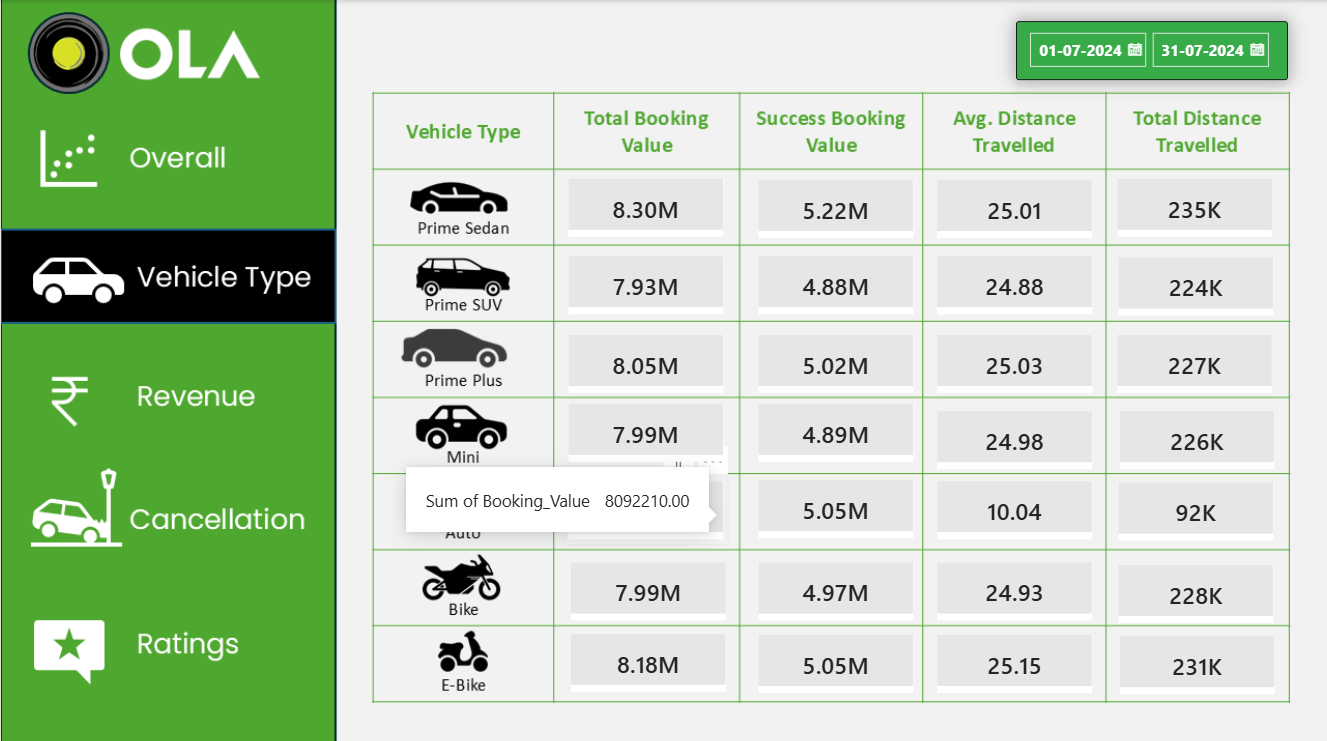

This screenshot's page, from the dashboard's own definition file:
{"tool":"powerbi","page":{"name":"Vehicle Type","canvas":[1280,720],"ordinal":1},"visuals":[{"type":"actionButton","box":[0,339,322.1,90.5],"z":0},{"type":"actionButton","box":[0,448.8,322.1,90.5],"z":1000},{"type":"actionButton","box":[0,579.1,322.1,90.5],"z":2000},{"type":"actionButton","box":[0,102.5,323.3,90.5],"z":3000},{"type":"actionButton","box":[0,446.4,323.3,90.5],"z":4000},{"type":"actionButton","box":[0,581.5,323.3,90.5],"z":5000},{"type":"cardVisual","fields":{"Data":["Sum(Bookings.Booking_Value)"]},"box":[542.9,167.5,159.7,66.2],"z":6000},{"type":"cardVisual","fields":{"Data":["Sum(Bookings.Booking_Value)"]},"box":[542.9,459.7,159.7,66.2],"z":7000},{"type":"cardVisual","fields":{"Data":["Sum(Bookings.Booking_Value)"]},"box":[545.5,537.7,159.7,66.2],"z":8000},{"type":"cardVisual","fields":{"Data":["Sum(Bookings.Booking_Value)"]},"box":[545.5,606.5,159.7,66.2],"z":9000},{"type":"cardVisual","fields":{"Data":["Sum(Bookings.Booking_Value)"]},"box":[542.9,384.4,159.7,66.2],"z":10000},{"type":"cardVisual","fields":{"Data":["Sum(Bookings.Booking_Value)"]},"box":[542.9,318.2,159.7,66.2],"z":11000},{"type":"cardVisual","fields":{"Data":["Sum(Bookings.Booking_Value)"]},"box":[542.9,242.9,159.7,66.2],"z":12000},{"type":"cardVisual","fields":{"Data":["Sum(Bookings.Booking_Value)"]},"box":[726,168.8,159.7,66.2],"z":13000},{"type":"cardVisual","fields":{"Data":["Sum(Bookings.Booking_Value)"]},"box":[726,242.9,159.7,66.2],"z":14000},{"type":"cardVisual","fields":{"Data":["Sum(Bookings.Booking_Value)"]},"box":[726,318.2,159.7,66.2],"z":15000},{"type":"cardVisual","fields":{"Data":["Sum(Bookings.Booking_Value)"]},"box":[726,384.4,159.7,66.2],"z":16000},{"type":"cardVisual","fields":{"Data":["Sum(Bookings.Booking_Value)"]},"box":[726,458.4,159.7,66.2],"z":17000},{"type":"cardVisual","fields":{"Data":["Sum(Bookings.Booking_Value)"]},"box":[726,537.7,159.7,66.2],"z":18000},{"type":"cardVisual","fields":{"Data":["Sum(Bookings.Booking_Value)"]},"box":[726,607.8,159.7,66.2],"z":19000},{"type":"cardVisual","fields":{"Data":["Avg(Bookings.Ride_Distance)"]},"box":[898.7,168.8,159.7,66.2],"z":20000},{"type":"cardVisual","fields":{"Data":["Avg(Bookings.Ride_Distance)"]},"box":[898.7,242.9,159.7,66.2],"z":21000},{"type":"cardVisual","fields":{"Data":["Avg(Bookings.Ride_Distance)"]},"box":[898.7,318.2,159.7,66.2],"z":22000},{"type":"cardVisual","fields":{"Data":["Avg(Bookings.Ride_Distance)"]},"box":[898.7,392.2,159.7,66.2],"z":23000},{"type":"cardVisual","fields":{"Data":["Avg(Bookings.Ride_Distance)"]},"box":[898.7,459.7,159.7,66.2],"z":24000},{"type":"cardVisual","fields":{"Data":["Avg(Bookings.Ride_Distance)"]},"box":[898.7,537.7,159.7,66.2],"z":25000},{"type":"cardVisual","fields":{"Data":["Avg(Bookings.Ride_Distance)"]},"box":[898.7,607.8,159.7,66.2],"z":26000},{"type":"cardVisual","fields":{"Data":["Sum(Bookings.Ride_Distance)"]},"box":[1072.7,167.5,159.7,66.2],"z":27000},{"type":"cardVisual","fields":{"Data":["Sum(Bookings.Ride_Distance)"]},"box":[1074,244.2,159.7,66.2],"z":28000},{"type":"cardVisual","fields":{"Data":["Sum(Bookings.Ride_Distance)"]},"box":[1072.7,318.2,159.7,66.2],"z":29000},{"type":"cardVisual","fields":{"Data":["Sum(Bookings.Ride_Distance)"]},"box":[1075.3,392.2,159.7,66.2],"z":30000},{"type":"cardVisual","fields":{"Data":["Sum(Bookings.Ride_Distance)"]},"box":[1074,461,159.7,66.2],"z":31000},{"type":"cardVisual","fields":{"Data":["Sum(Bookings.Ride_Distance)"]},"box":[1074,540.3,159.7,66.2],"z":32000},{"type":"cardVisual","fields":{"Data":["Sum(Bookings.Ride_Distance)"]},"box":[1075.3,609.1,159.7,66.2],"z":33000},{"type":"slicer","title":"Date","fields":{"Values":["Bookings.Date.1"]},"box":[979.2,20.8,262.3,57.1],"z":34000}]}

Visuals, with their boxes in screenshot pixels (x1, y1, x2, y2), scaled from the page's 1280x720 canvas onto the 1327x741 screenshot:
actionButton: x1=0, y1=349, x2=334, y2=442
actionButton: x1=0, y1=462, x2=334, y2=555
actionButton: x1=0, y1=596, x2=334, y2=689
actionButton: x1=0, y1=105, x2=335, y2=199
actionButton: x1=0, y1=459, x2=335, y2=553
actionButton: x1=0, y1=598, x2=335, y2=692
cardVisual - Sum(Bookings.Booking_Value): x1=563, y1=172, x2=728, y2=241
cardVisual - Sum(Bookings.Booking_Value): x1=563, y1=473, x2=728, y2=541
cardVisual - Sum(Bookings.Booking_Value): x1=566, y1=553, x2=731, y2=622
cardVisual - Sum(Bookings.Booking_Value): x1=566, y1=624, x2=731, y2=692
cardVisual - Sum(Bookings.Booking_Value): x1=563, y1=396, x2=728, y2=464
cardVisual - Sum(Bookings.Booking_Value): x1=563, y1=327, x2=728, y2=396
cardVisual - Sum(Bookings.Booking_Value): x1=563, y1=250, x2=728, y2=318
cardVisual - Sum(Bookings.Booking_Value): x1=753, y1=174, x2=918, y2=242
cardVisual - Sum(Bookings.Booking_Value): x1=753, y1=250, x2=918, y2=318
cardVisual - Sum(Bookings.Booking_Value): x1=753, y1=327, x2=918, y2=396
cardVisual - Sum(Bookings.Booking_Value): x1=753, y1=396, x2=918, y2=464
cardVisual - Sum(Bookings.Booking_Value): x1=753, y1=472, x2=918, y2=540
cardVisual - Sum(Bookings.Booking_Value): x1=753, y1=553, x2=918, y2=622
cardVisual - Sum(Bookings.Booking_Value): x1=753, y1=626, x2=918, y2=694
cardVisual - Avg(Bookings.Ride_Distance): x1=932, y1=174, x2=1097, y2=242
cardVisual - Avg(Bookings.Ride_Distance): x1=932, y1=250, x2=1097, y2=318
cardVisual - Avg(Bookings.Ride_Distance): x1=932, y1=327, x2=1097, y2=396
cardVisual - Avg(Bookings.Ride_Distance): x1=932, y1=404, x2=1097, y2=472
cardVisual - Avg(Bookings.Ride_Distance): x1=932, y1=473, x2=1097, y2=541
cardVisual - Avg(Bookings.Ride_Distance): x1=932, y1=553, x2=1097, y2=622
cardVisual - Avg(Bookings.Ride_Distance): x1=932, y1=626, x2=1097, y2=694
cardVisual - Sum(Bookings.Ride_Distance): x1=1112, y1=172, x2=1278, y2=241
cardVisual - Sum(Bookings.Ride_Distance): x1=1113, y1=251, x2=1279, y2=319
cardVisual - Sum(Bookings.Ride_Distance): x1=1112, y1=327, x2=1278, y2=396
cardVisual - Sum(Bookings.Ride_Distance): x1=1115, y1=404, x2=1280, y2=472
cardVisual - Sum(Bookings.Ride_Distance): x1=1113, y1=474, x2=1279, y2=543
cardVisual - Sum(Bookings.Ride_Distance): x1=1113, y1=556, x2=1279, y2=624
cardVisual - Sum(Bookings.Ride_Distance): x1=1115, y1=627, x2=1280, y2=695
"Date" slicer: x1=1015, y1=21, x2=1287, y2=80
